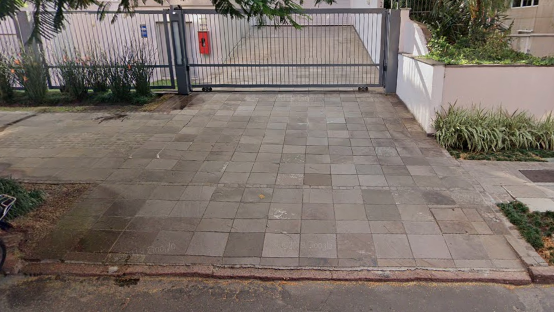vag42: (84, 188, 517, 312)
